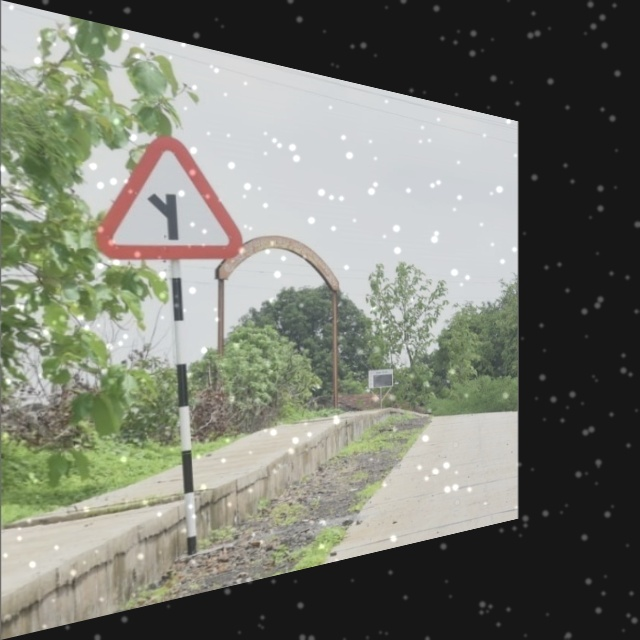Y_Intersection: (109, 130, 240, 258)
